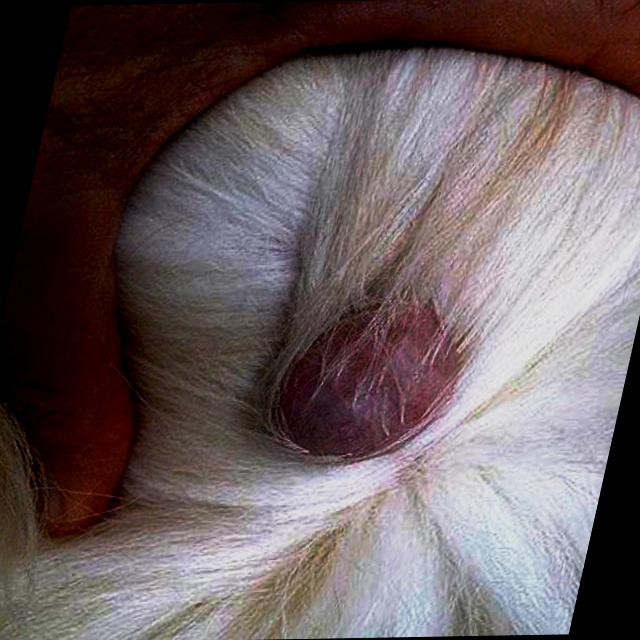lump_and_bump: (252, 310, 481, 455)
